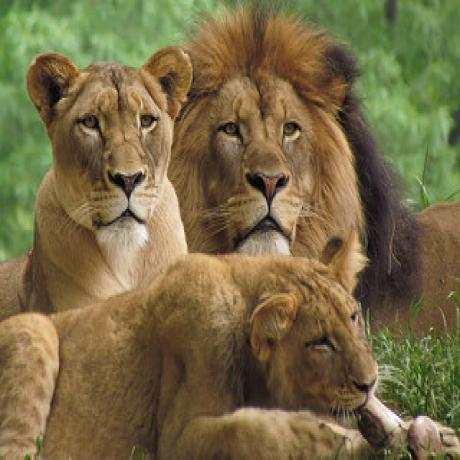Lion: (171, 0, 460, 321), (0, 234, 379, 460), (0, 44, 191, 284)
